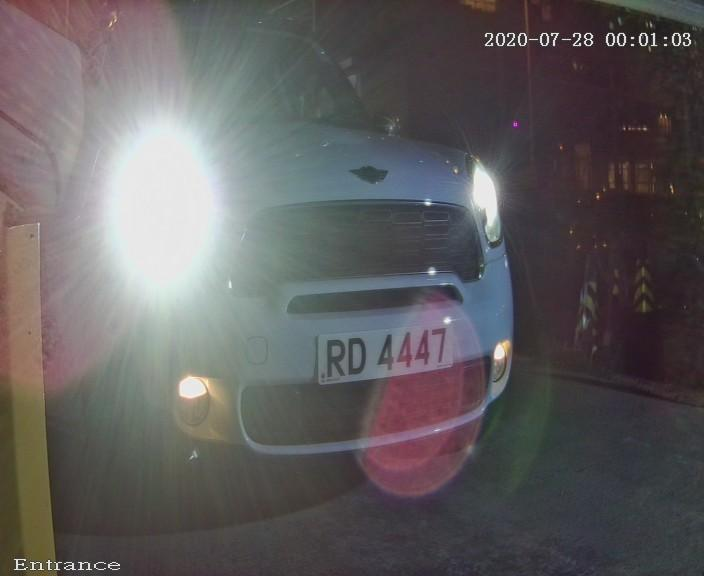privatecar: (45, 3, 573, 543)
